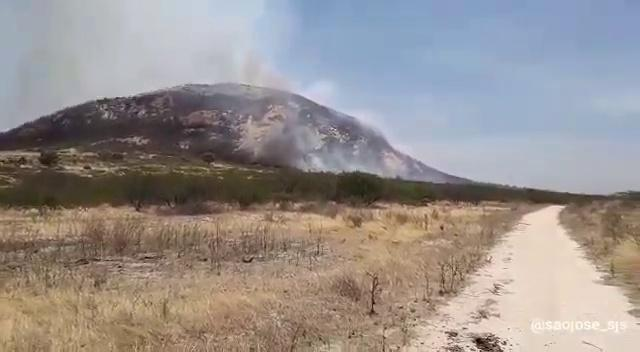smoke: (256, 110, 315, 160)
